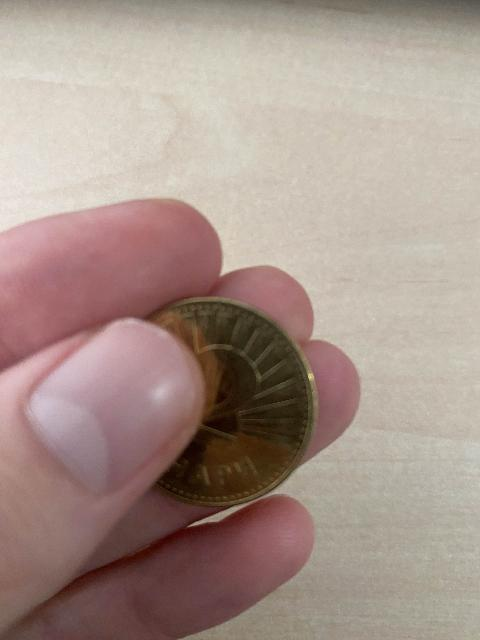2_coin: (147, 298, 317, 506)
